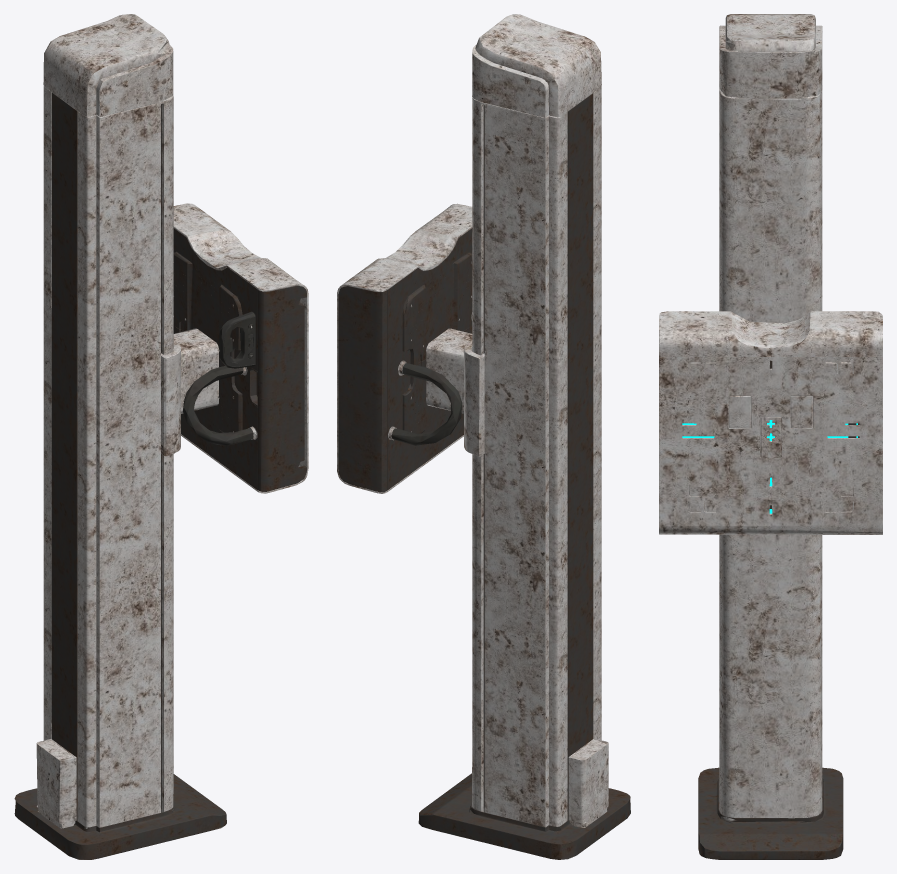
File: craft_r07_skiagraph_pillar.glb
The picture shows the model from 3 angles, left to right: view 1: azimuth 30°, elevation 25°; view 2: azimuth 150°, elevation 25°; view 3: azimuth 270°, elevation 25°; orthographic projection.
Visible parts, largest first — view 1: craft_r07_skiagraph_pillar; view 2: craft_r07_skiagraph_pillar; view 3: craft_r07_skiagraph_pillar.
Boxes of the visible parts, x1=… form: craft_r07_skiagraph_pillar: x1=14, y1=14, x2=308, y2=859; craft_r07_skiagraph_pillar: x1=337, y1=14, x2=630, y2=859; craft_r07_skiagraph_pillar: x1=659, y1=14, x2=882, y2=859.
Bounding box in the file's own units: 0.6088 × 2.17 × 0.5533.
Materials: 7 (6 with a texture image).
